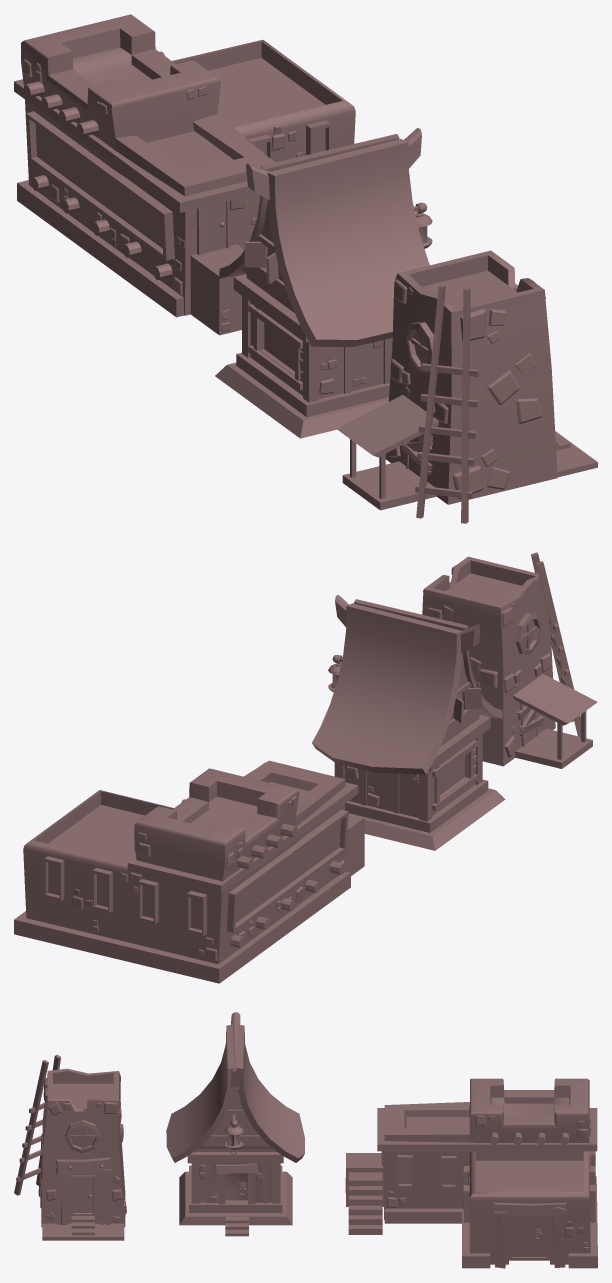
The model's file is Houses_Unity_OK.fbx.
3 renders of one model, top to bottom at view 1: azimuth 30°, elevation 25°; view 2: azimuth 150°, elevation 25°; view 3: azimuth 270°, elevation 25°, orthographic. The views are drawn at different scales.
Parts seen in each view (by area): view 1: House_03, House_02, House_01; view 2: House_03, House_02, House_01; view 3: House_03, House_02, House_01.
Part boxes in pixels (bbox=[...]): House_03: bbox=[14, 14, 355, 335]; House_02: bbox=[215, 127, 432, 438]; House_01: bbox=[336, 250, 597, 523]; House_03: bbox=[14, 760, 364, 983]; House_02: bbox=[312, 595, 505, 850]; House_01: bbox=[422, 552, 597, 768]; House_03: bbox=[345, 1078, 597, 1268]; House_02: bbox=[166, 1012, 304, 1236]; House_01: bbox=[14, 1054, 126, 1240].
Size of the model in its own units: 9.71 by 7.75 by 24.75.
